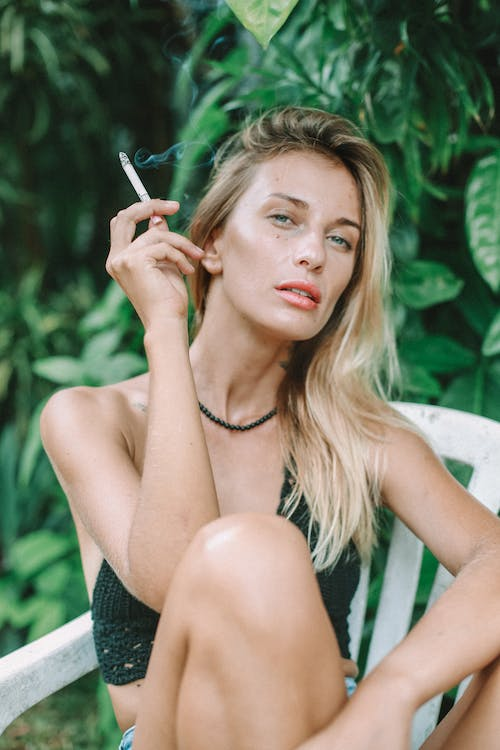cigarette: (117, 149, 164, 227)
